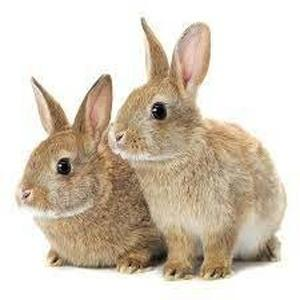rabbit: (20, 18, 288, 281)
